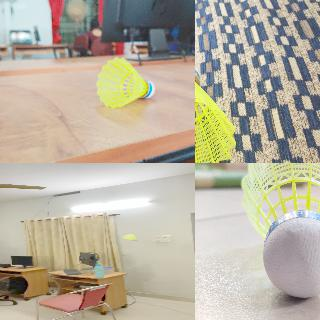shuttlecock: (240, 163, 319, 298), (195, 60, 237, 162), (96, 56, 154, 108), (123, 233, 137, 240)
